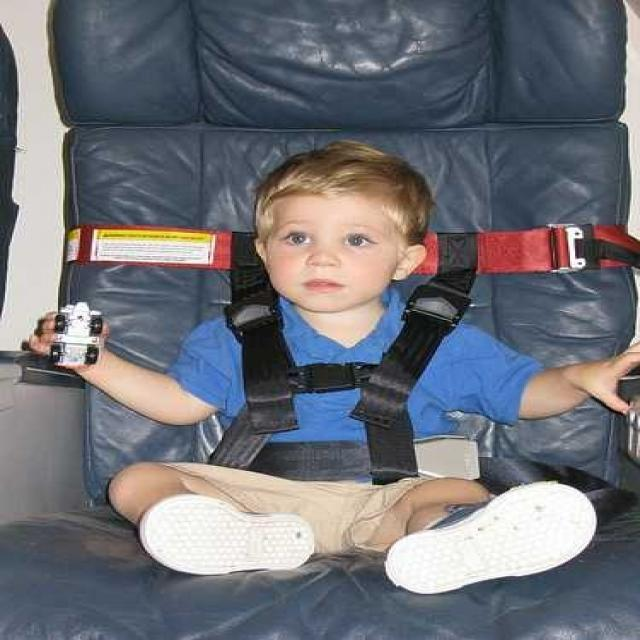seatbelt: (365, 229, 522, 393), (214, 226, 312, 428)
